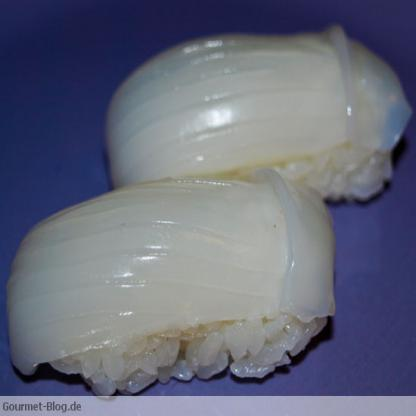ika: (0, 158, 348, 401)
